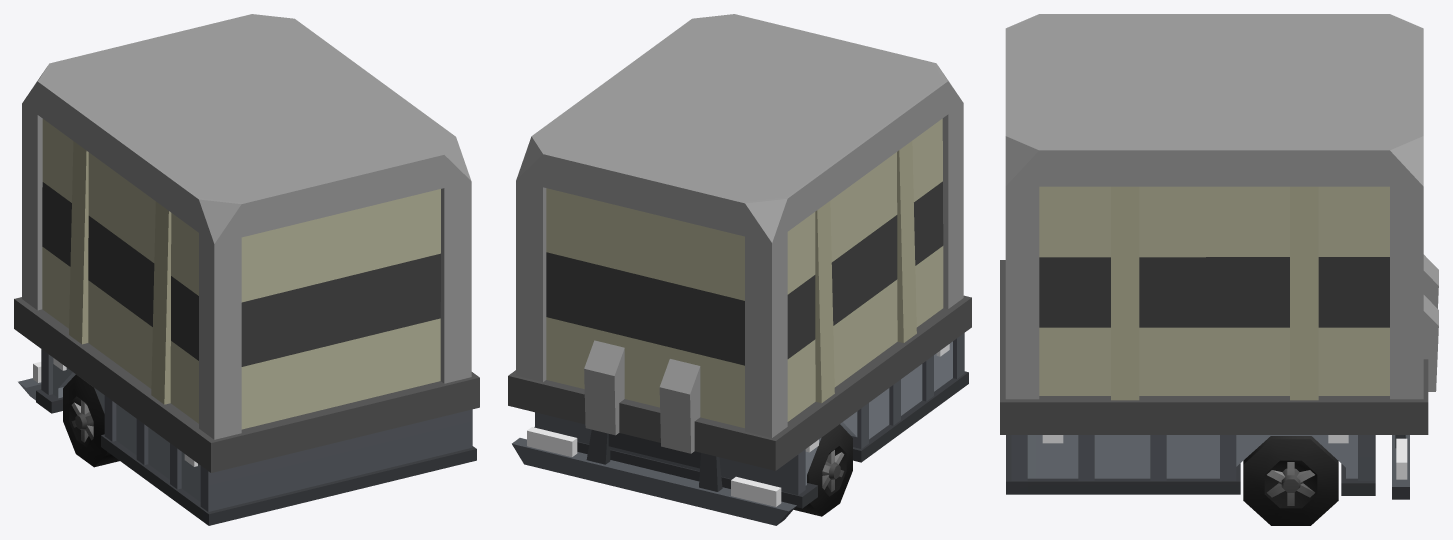
Rendered from cargo_02_C_2.fbx.
3 views of the same model, side by side, from view 1: azimuth 30°, elevation 25°; view 2: azimuth 150°, elevation 25°; view 3: azimuth 270°, elevation 25° (orthographic). The views are drawn at different scales.
Visible parts, largest first — view 1: cargo_02_C_2; view 2: cargo_02_C_2; view 3: cargo_02_C_2.
Part boxes in pixels (bbox=[...]): cargo_02_C_2: bbox=[14, 14, 479, 525]; cargo_02_C_2: bbox=[508, 14, 971, 525]; cargo_02_C_2: bbox=[1000, 14, 1438, 525].
Size of the model in its own units: 13.41 by 15.94 by 16.84.
